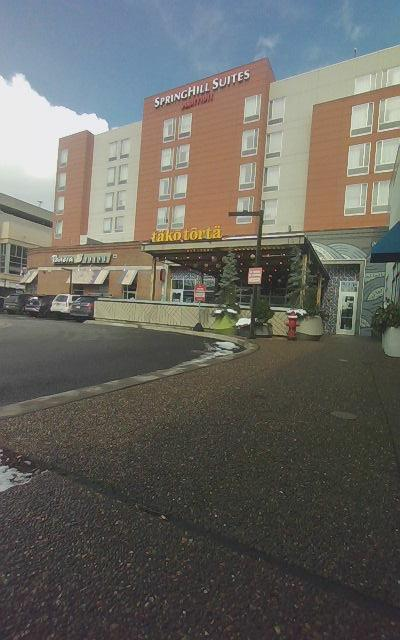curb: (0, 336, 399, 639)
road: (0, 314, 240, 406)
